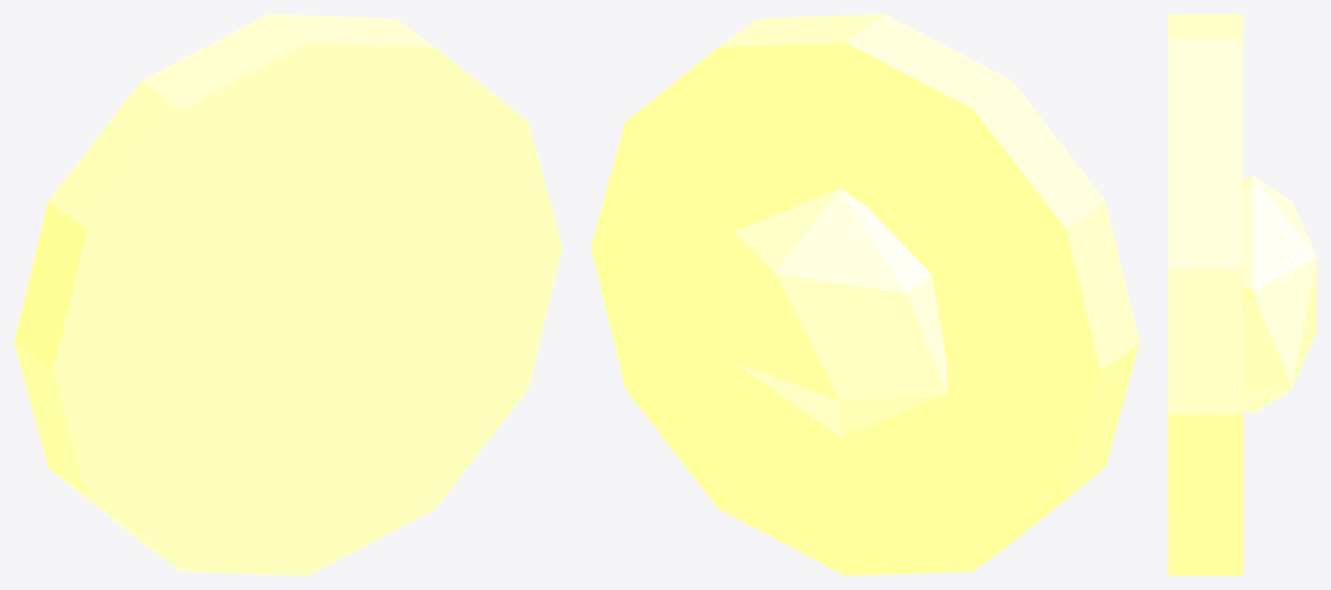
Rendered from coin.glb.
3 views of the same model, side by side, from view 1: azimuth 30°, elevation 25°; view 2: azimuth 150°, elevation 25°; view 3: azimuth 270°, elevation 25° (orthographic). The views are drawn at different scales.
Parts seen in each view (by area): view 1: Coin; view 2: Coin; view 3: Coin.
Boxes of the visible parts, x1,y1,x2,y2 form: Coin: (14,14,562,575); Coin: (591,14,1139,575); Coin: (1168,14,1316,575).
Bounding box in the file's own units: 0.6 × 0.6 × 0.1581.
